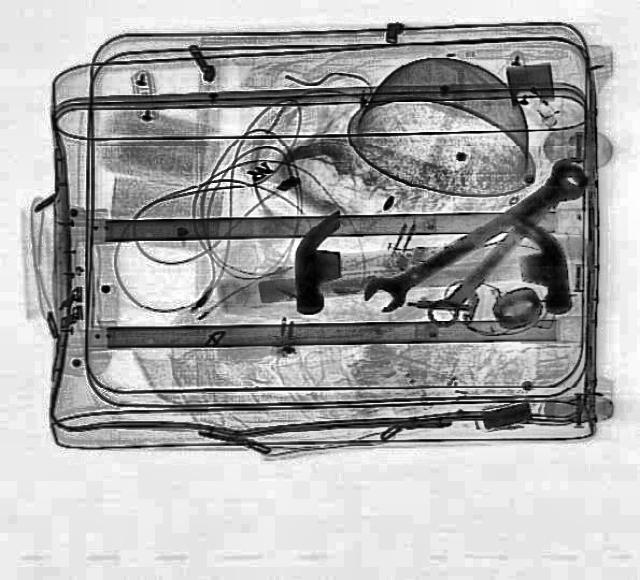Wrench: (354, 152, 600, 318), (418, 154, 592, 332)
